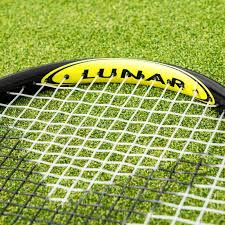tennis racket: (1, 57, 224, 225)
